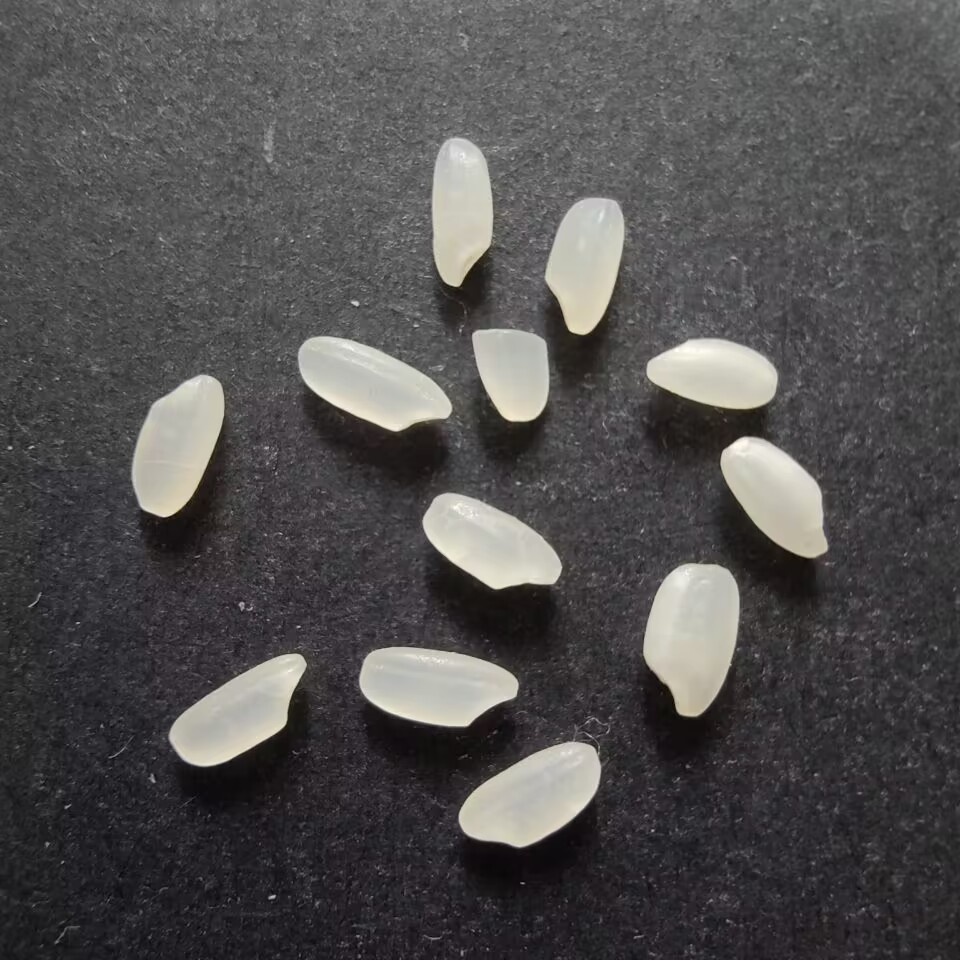broken: (467, 324, 557, 426)
rice: (166, 648, 308, 770), (454, 738, 604, 853), (293, 336, 463, 435), (640, 559, 741, 725), (417, 489, 570, 598), (716, 434, 833, 565), (354, 646, 528, 734), (128, 373, 227, 520), (542, 194, 627, 338), (642, 333, 782, 416), (428, 132, 498, 291)
